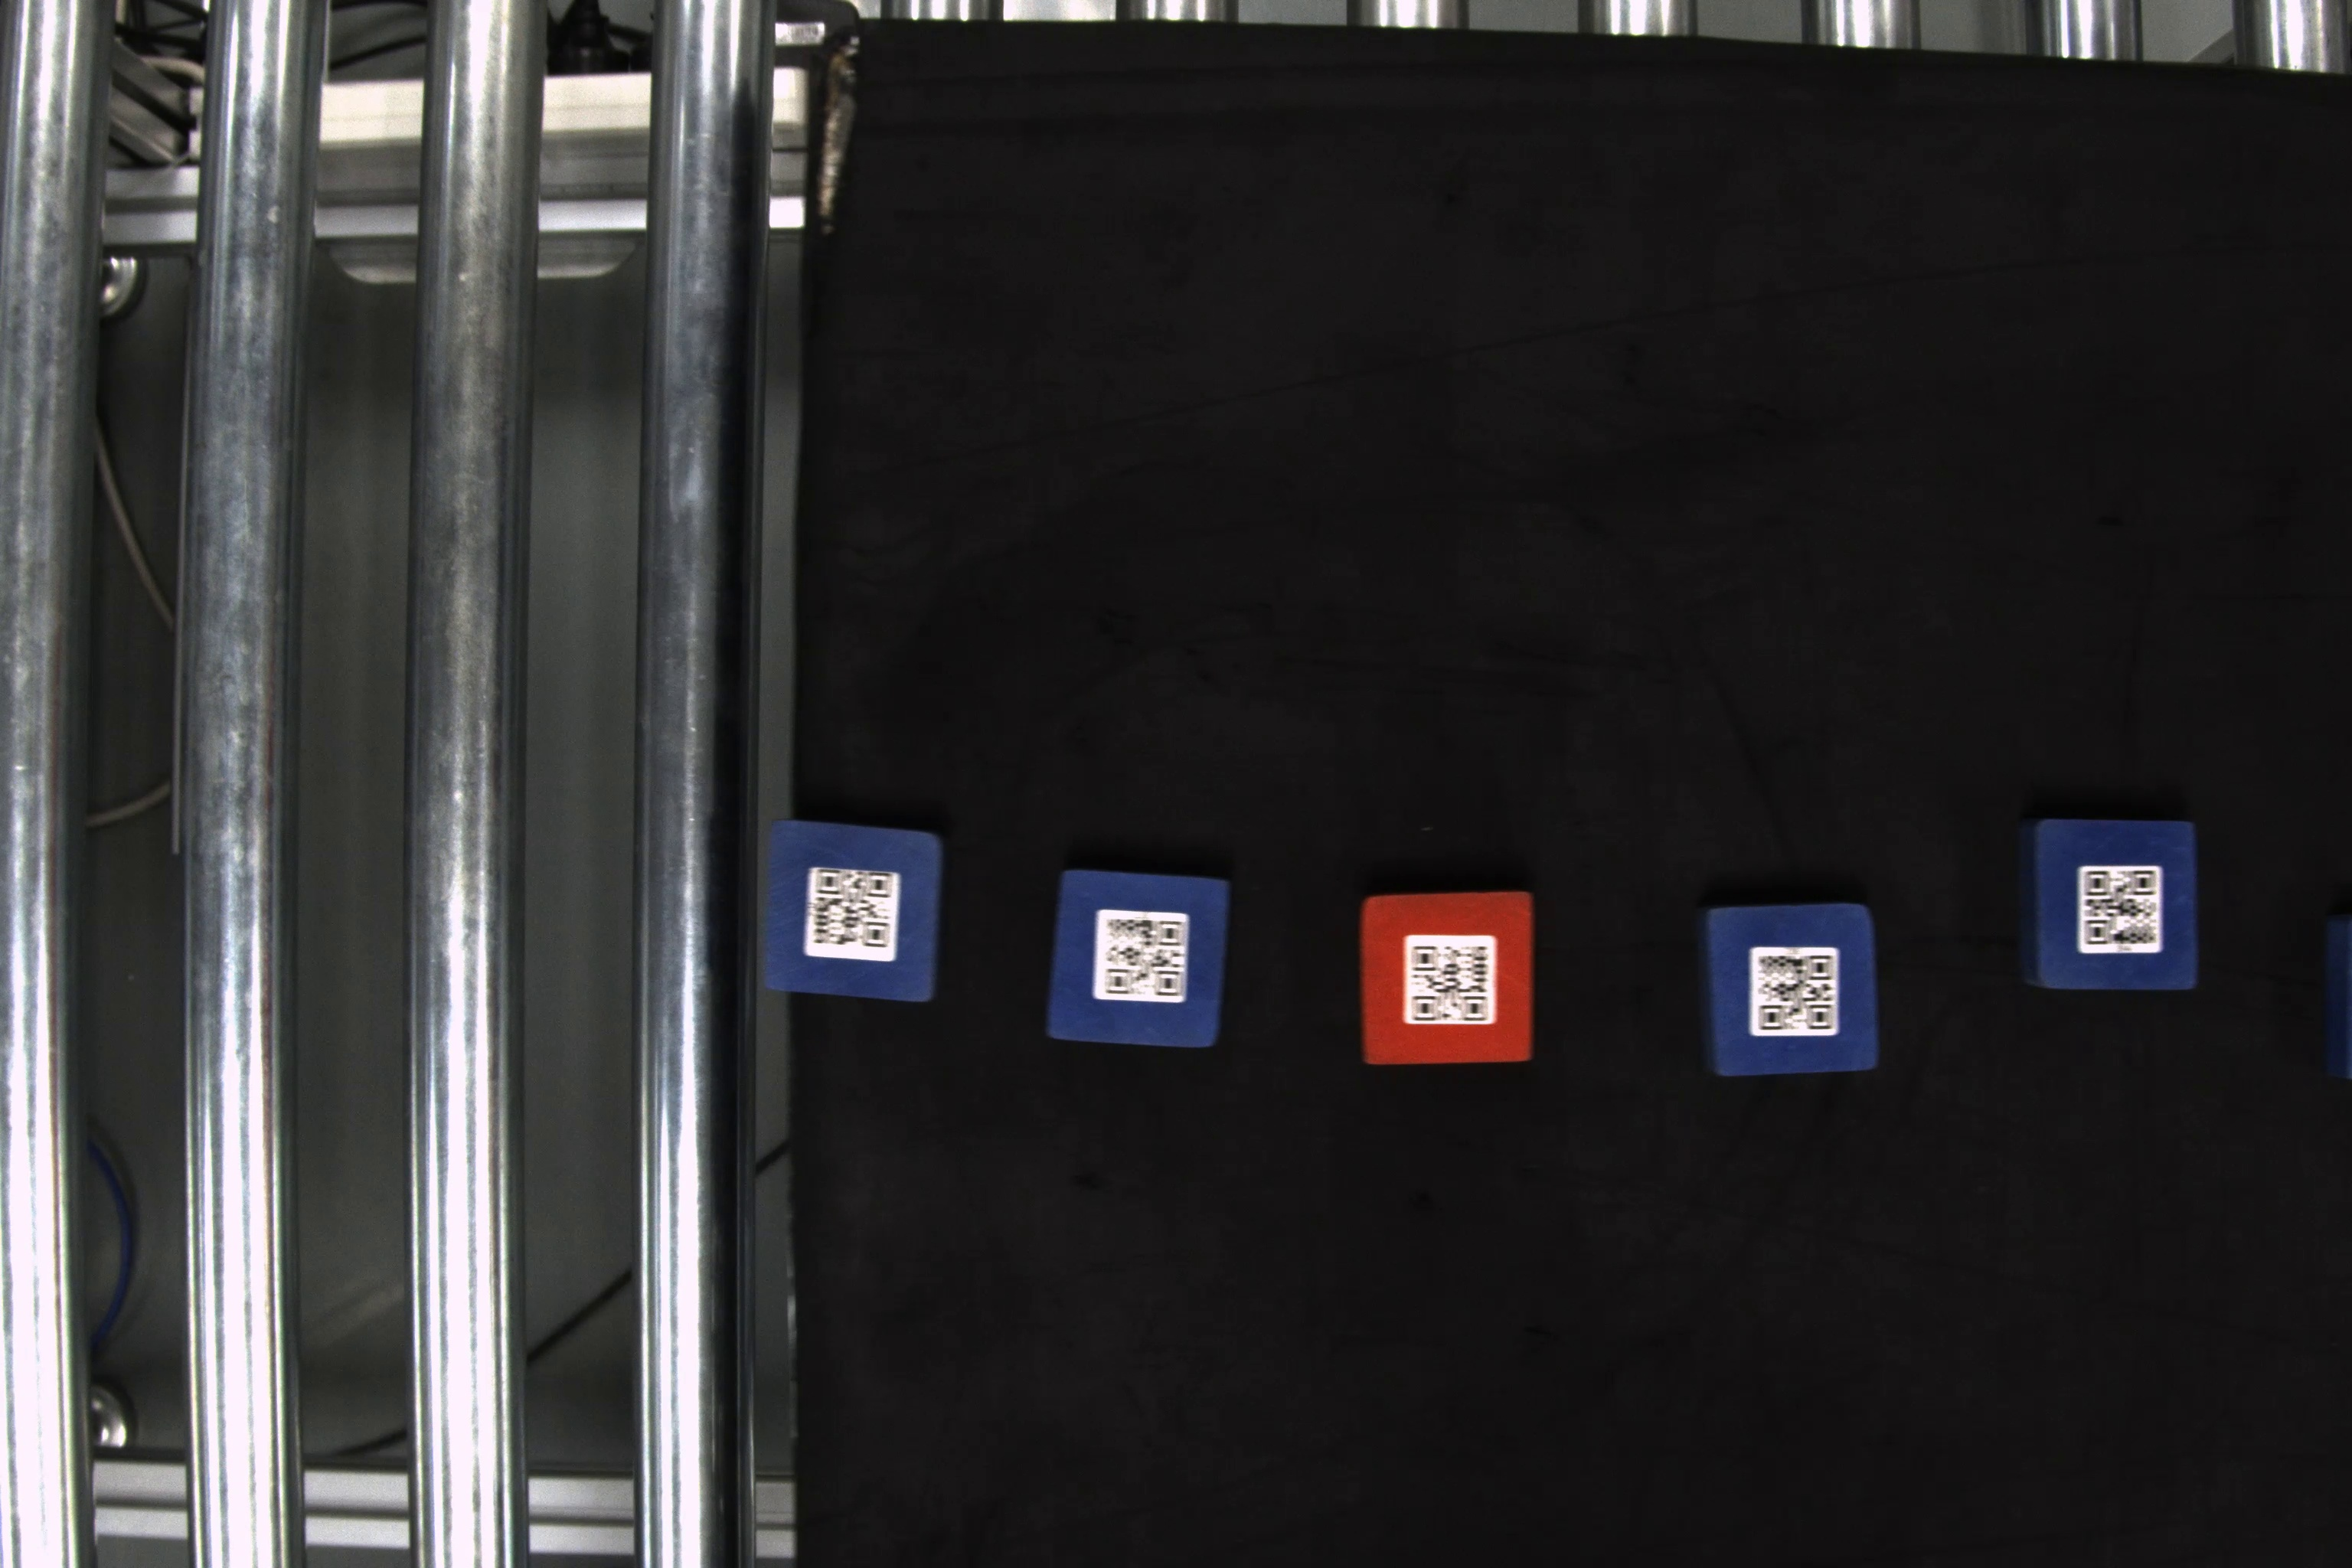wood: (759, 819, 948, 1011), (1697, 903, 1886, 1083), (1046, 871, 1232, 1053), (2021, 814, 2205, 992), (1360, 894, 1543, 1066)
